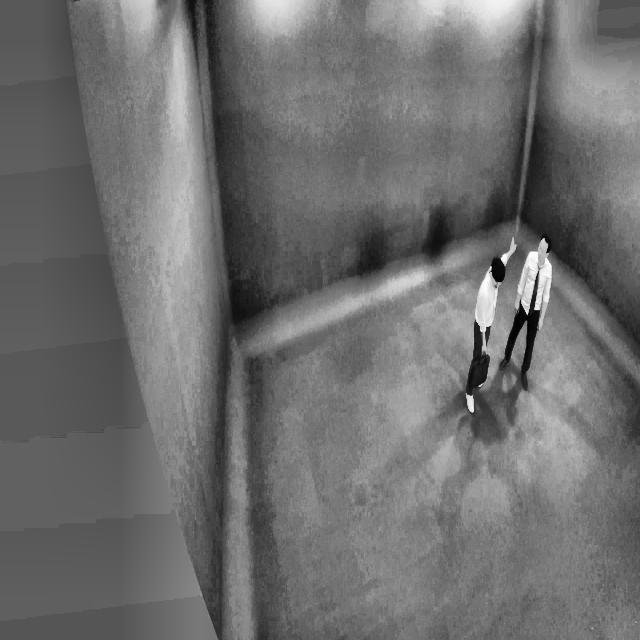assult: (464, 234, 554, 429)
